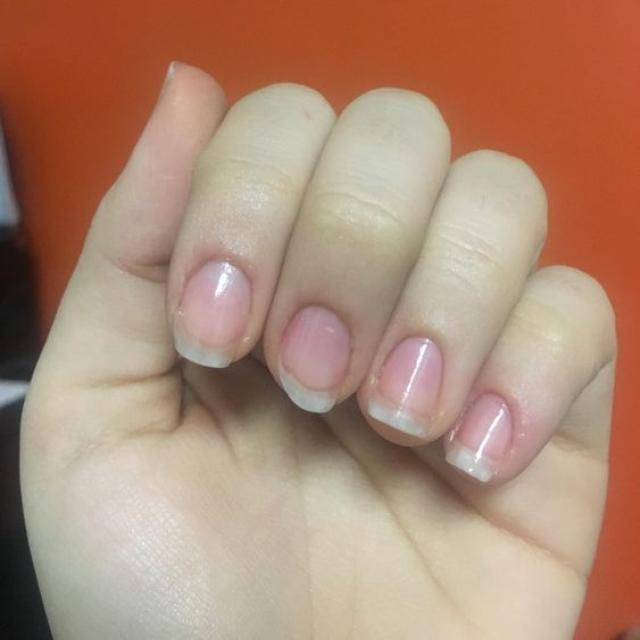Fingernail: (175, 261, 251, 367), (281, 306, 350, 413), (369, 337, 442, 436), (446, 395, 511, 482)
